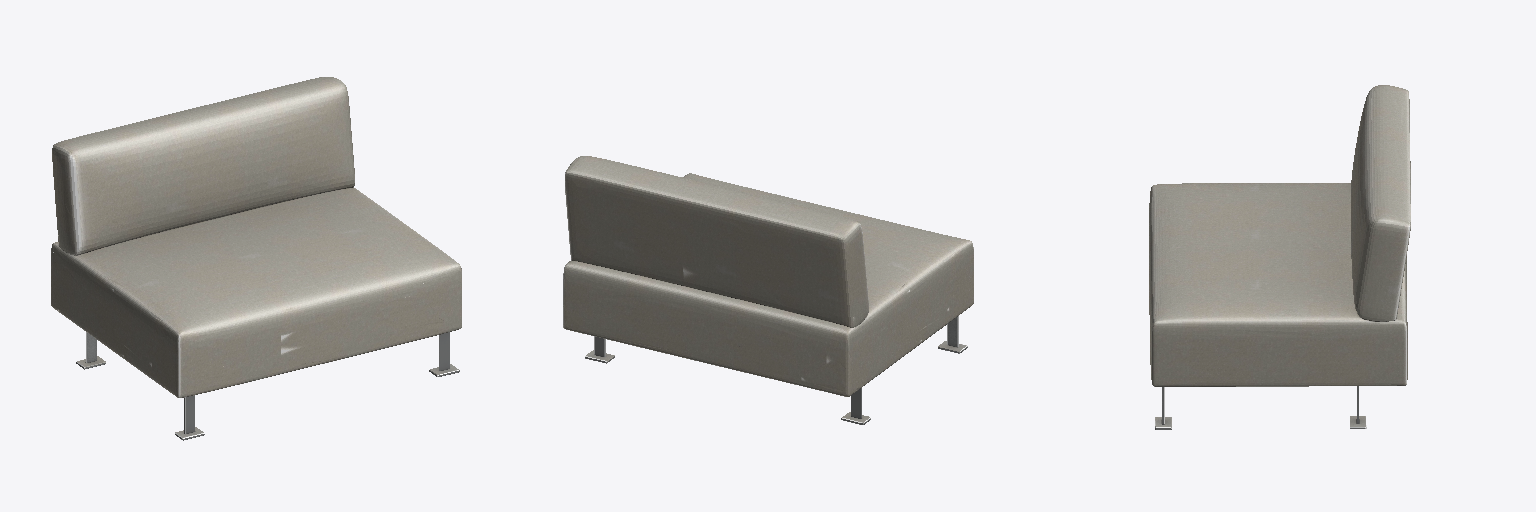
3 views of the same model, side by side, from view 1: azimuth 30°, elevation 25°; view 2: azimuth 150°, elevation 25°; view 3: azimuth 270°, elevation 25° (orthographic).
Parts seen in each view (by area): view 1: solid_001, solid_002; view 2: solid_001, solid_002; view 3: solid_001, solid_002.
Boxes of the visible parts, x1,y1,x2,y2 form: solid_001: [51, 77, 461, 397]; solid_002: [76, 332, 459, 440]; solid_001: [563, 156, 973, 396]; solid_002: [585, 316, 967, 424]; solid_001: [1149, 85, 1410, 386]; solid_002: [1155, 386, 1366, 429].
Bounding box in the file's own units: 0.8465 × 0.5921 × 0.6693.
1 materials, 1 textured.